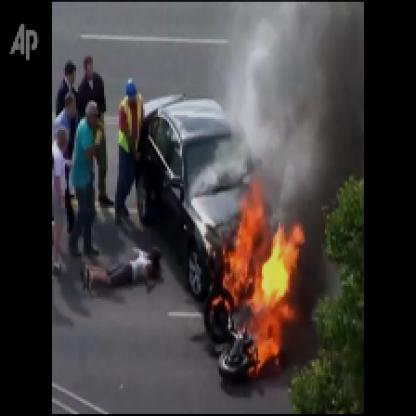Fire: (208, 171, 299, 386)
Smoke: (245, 2, 364, 178)
